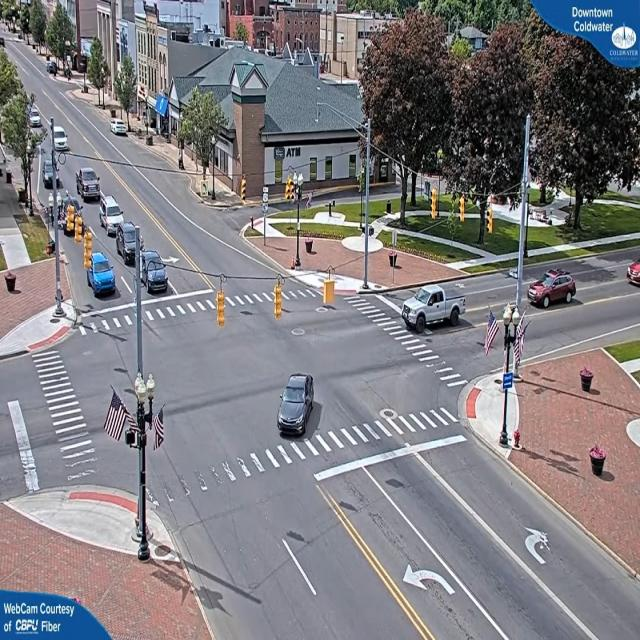car: (395, 286, 462, 332), (277, 373, 316, 437), (528, 266, 579, 309), (87, 252, 118, 296), (140, 249, 170, 293), (100, 198, 125, 236), (117, 223, 142, 260), (76, 168, 100, 202), (53, 125, 69, 155), (627, 261, 639, 288), (112, 121, 128, 136)
